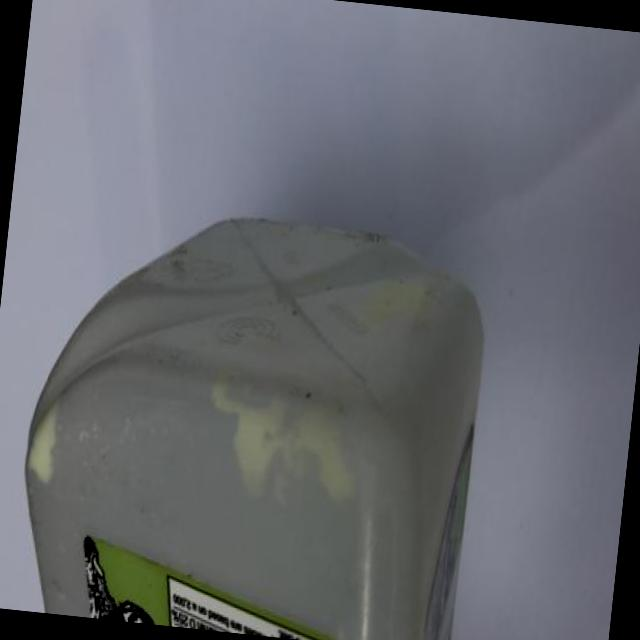Recycle: (10, 180, 501, 640)
